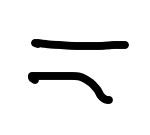eqv: (22, 33, 131, 105)
